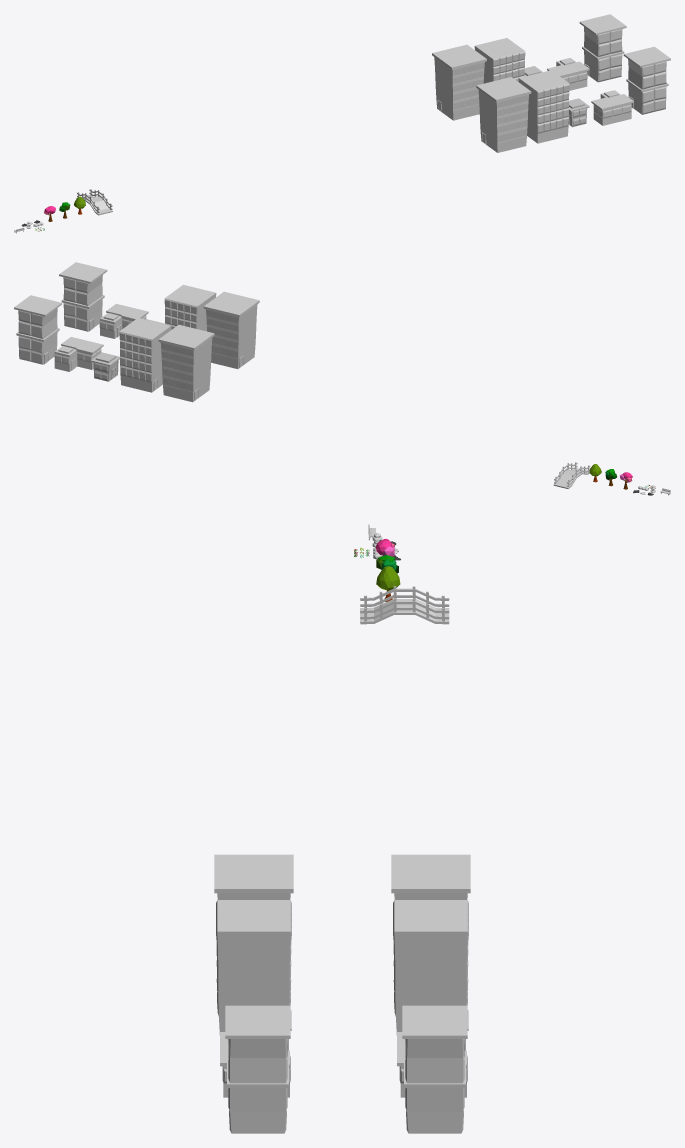
Rendered from Low Poly Modern Update Exterior.fbx.
3 views of the same model, one above another, from view 1: azimuth 30°, elevation 25°; view 2: azimuth 150°, elevation 25°; view 3: azimuth 270°, elevation 25° (orthographic). The views are drawn at different scales.
Parts seen in each view (by area): view 1: City Building 14, City Building 9, City Building 15, City Building 18, City Building 13, City Building 10, City Building 17, City Building 12, Bridge 2, City Building 16; view 2: City Building 9, City Building 14, City Building 10, City Building 13, City Building 18, City Building 15, City Building 12, City Building 17, City Building 11, Bridge 2; view 3: City Building 15, City Building 10, City Building 18, City Building 13, City Building 14, City Building 9, Bridge 2.
Boxes of the visible parts, bbox=[...] form: City Building 14: bbox=[476, 77, 531, 152]; City Building 9: bbox=[432, 44, 486, 120]; City Building 15: bbox=[519, 70, 569, 143]; City Building 18: bbox=[623, 46, 670, 114]; City Building 13: bbox=[579, 14, 626, 82]; City Building 10: bbox=[474, 38, 525, 83]; City Building 17: bbox=[591, 90, 633, 125]; City Building 12: bbox=[547, 58, 589, 90]; Bridge 2: bbox=[76, 189, 112, 215]; City Building 16: bbox=[568, 98, 589, 127]; City Building 9: bbox=[158, 324, 214, 402]; City Building 14: bbox=[203, 291, 259, 368]; City Building 10: bbox=[119, 318, 170, 392]; City Building 13: bbox=[14, 295, 61, 364]; City Building 18: bbox=[59, 262, 107, 331]; City Building 15: bbox=[164, 284, 216, 331]; City Building 12: bbox=[54, 337, 103, 371]; City Building 17: bbox=[99, 303, 148, 338]; City Building 11: bbox=[91, 352, 119, 381]; Bridge 2: bbox=[553, 462, 590, 488]; City Building 15: bbox=[216, 900, 291, 1034]; City Building 10: bbox=[393, 900, 468, 1034]; City Building 18: bbox=[225, 1005, 290, 1133]; City Building 13: bbox=[402, 1005, 467, 1133]; City Building 14: bbox=[214, 854, 293, 899]; City Building 9: bbox=[391, 854, 470, 899]; Bridge 2: bbox=[360, 586, 449, 624].
Bounding box in the file's own units: 143 × 12.17 × 25.62.
